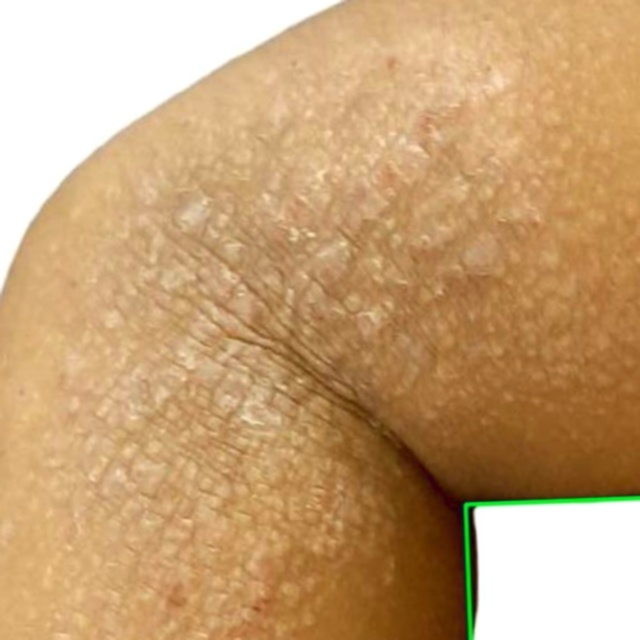Eczema: (465, 497, 639, 639)
